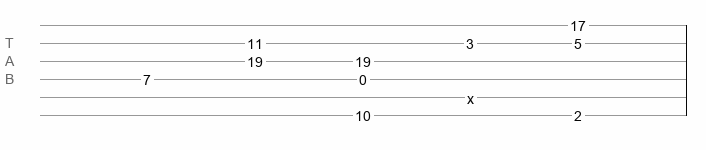0: (359, 72, 367, 82)
10: (355, 108, 371, 118)
11: (247, 36, 263, 46)
17: (570, 18, 586, 28)
19: (247, 54, 263, 64), (355, 54, 371, 64)
2: (574, 108, 582, 118)
3: (466, 36, 474, 46)
5: (574, 36, 582, 46)
7: (143, 72, 151, 82)
x: (467, 91, 474, 99)
